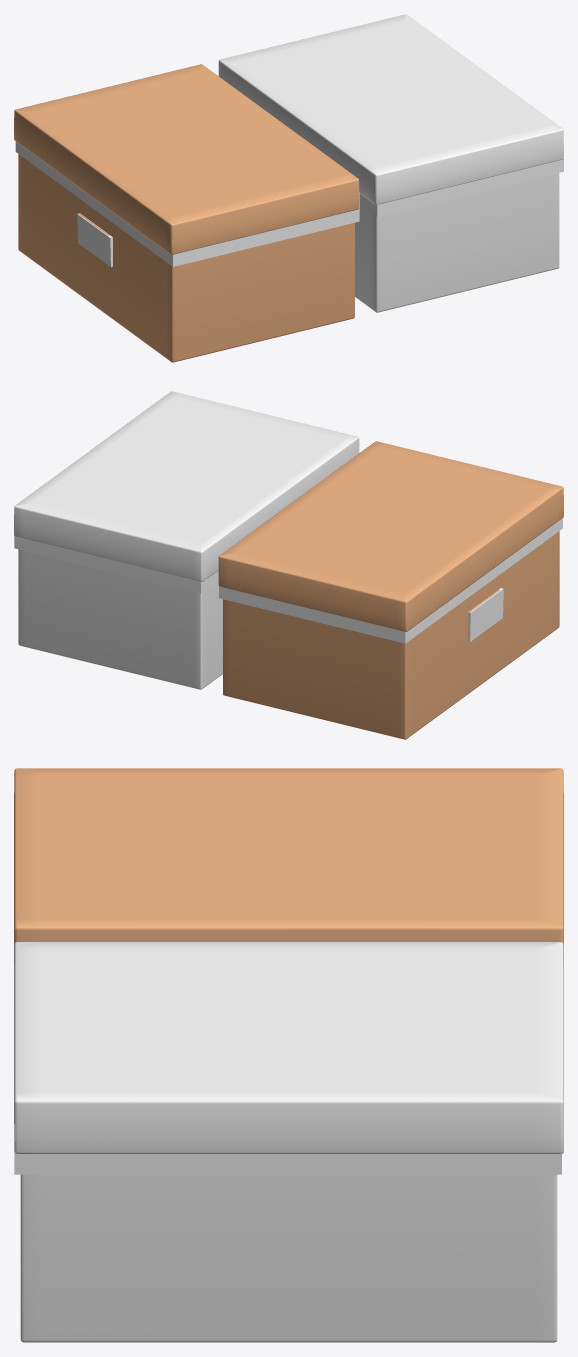
3 views of the same model, one above another, from view 1: azimuth 30°, elevation 25°; view 2: azimuth 150°, elevation 25°; view 3: azimuth 270°, elevation 25° (orthographic). The views are drawn at different scales.
Parts seen in each view (by area): view 1: Box_015, Box_016, Box66787339, Box66787341, Box66787340; view 2: Box_015, Box_016, Box66787339, Box66787341, Box66787340; view 3: Box_016, Box_015, Box66787341.
Part boxes in pixels (x1,y1,x2,y2): Box_015: (14, 64, 359, 362); Box_016: (218, 14, 563, 312); Box66787339: (15, 141, 359, 266); Box66787341: (359, 143, 563, 216); Box66787340: (77, 213, 112, 267); Box_015: (218, 441, 563, 739); Box_016: (14, 391, 359, 689); Box66787339: (219, 518, 562, 643); Box66787341: (14, 536, 218, 593); Box66787340: (468, 588, 503, 641); Box_016: (14, 942, 563, 1342); Box_015: (14, 768, 563, 965); Box66787341: (14, 1124, 561, 1174).
Bounding box in the file's own units: 0.4236 × 0.1446 × 0.2949.
